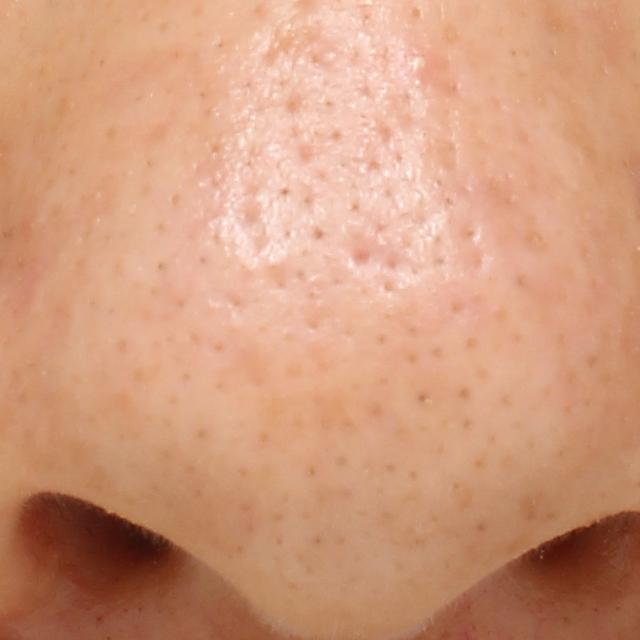atrophic_scar: (258, 14, 348, 74)
